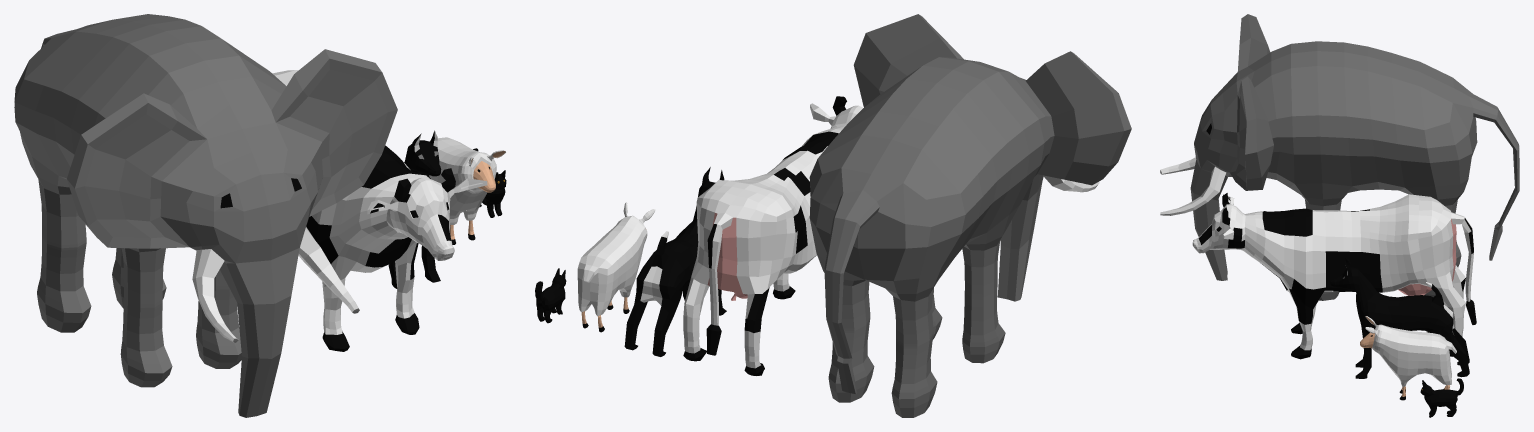
Rendered from low_poly_animals.glb.
3 views of the same model, side by side, from view 1: azimuth 30°, elevation 25°; view 2: azimuth 150°, elevation 25°; view 3: azimuth 270°, elevation 25° (orthographic). The views are drawn at different scales.
Parts seen in each view (by area): view 1: Cube, cow, Cube.001, dog, Cube.002; view 2: Cube, cow, dog, Cube.001, Cube.002; view 3: Cube, cow, dog, Cube.001, Cube.002.
Part boxes in pixels (bbox=[...]): Cube: bbox=[14, 14, 397, 417]; cow: bbox=[272, 70, 487, 351]; Cube.001: bbox=[429, 137, 505, 244]; dog: bbox=[384, 130, 441, 288]; Cube.002: bbox=[473, 148, 506, 217]; Cube: bbox=[809, 14, 1131, 417]; cow: bbox=[683, 96, 863, 375]; dog: bbox=[624, 167, 726, 356]; Cube.001: bbox=[577, 202, 655, 332]; Cube.002: bbox=[535, 268, 566, 323]; Cube: bbox=[1160, 14, 1519, 300]; cow: bbox=[1192, 193, 1476, 359]; dog: bbox=[1330, 257, 1469, 378]; Cube.001: bbox=[1360, 316, 1456, 400]; Cube.002: bbox=[1420, 378, 1463, 417].
Size of the model in its own units: 5.72 by 3.33 by 4.49.
